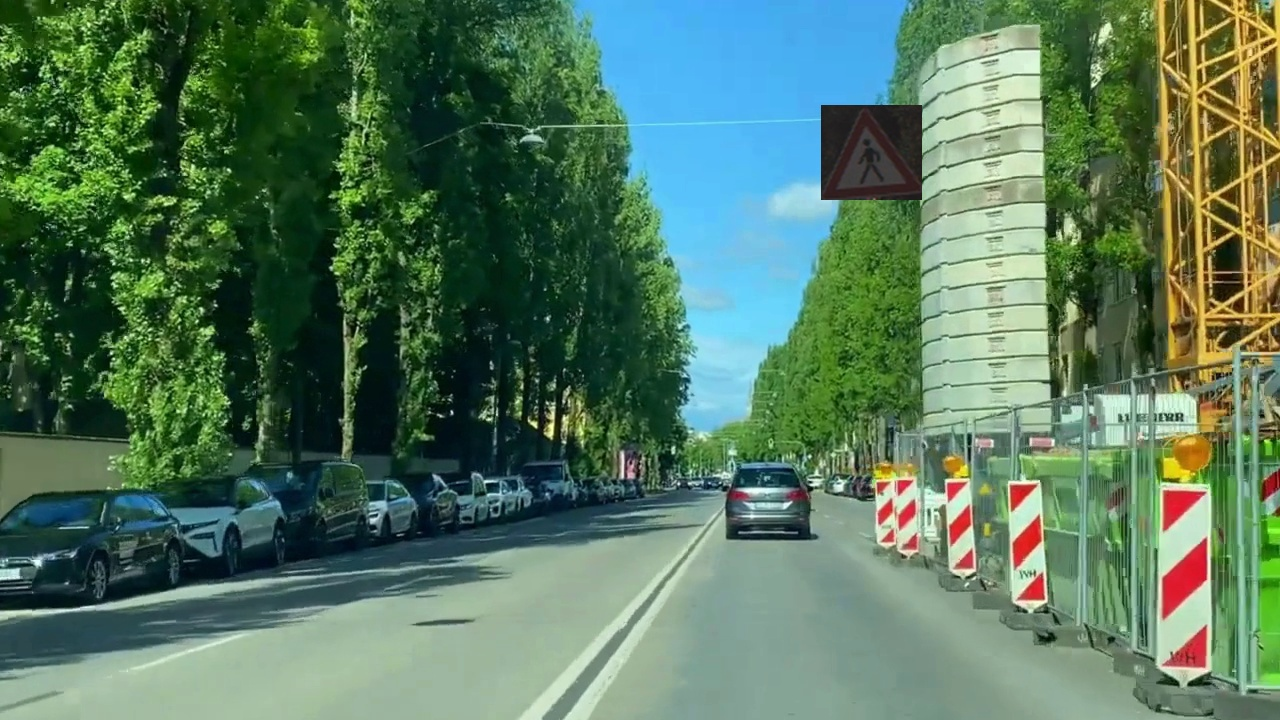Pedestrians: (821, 105, 922, 200)
